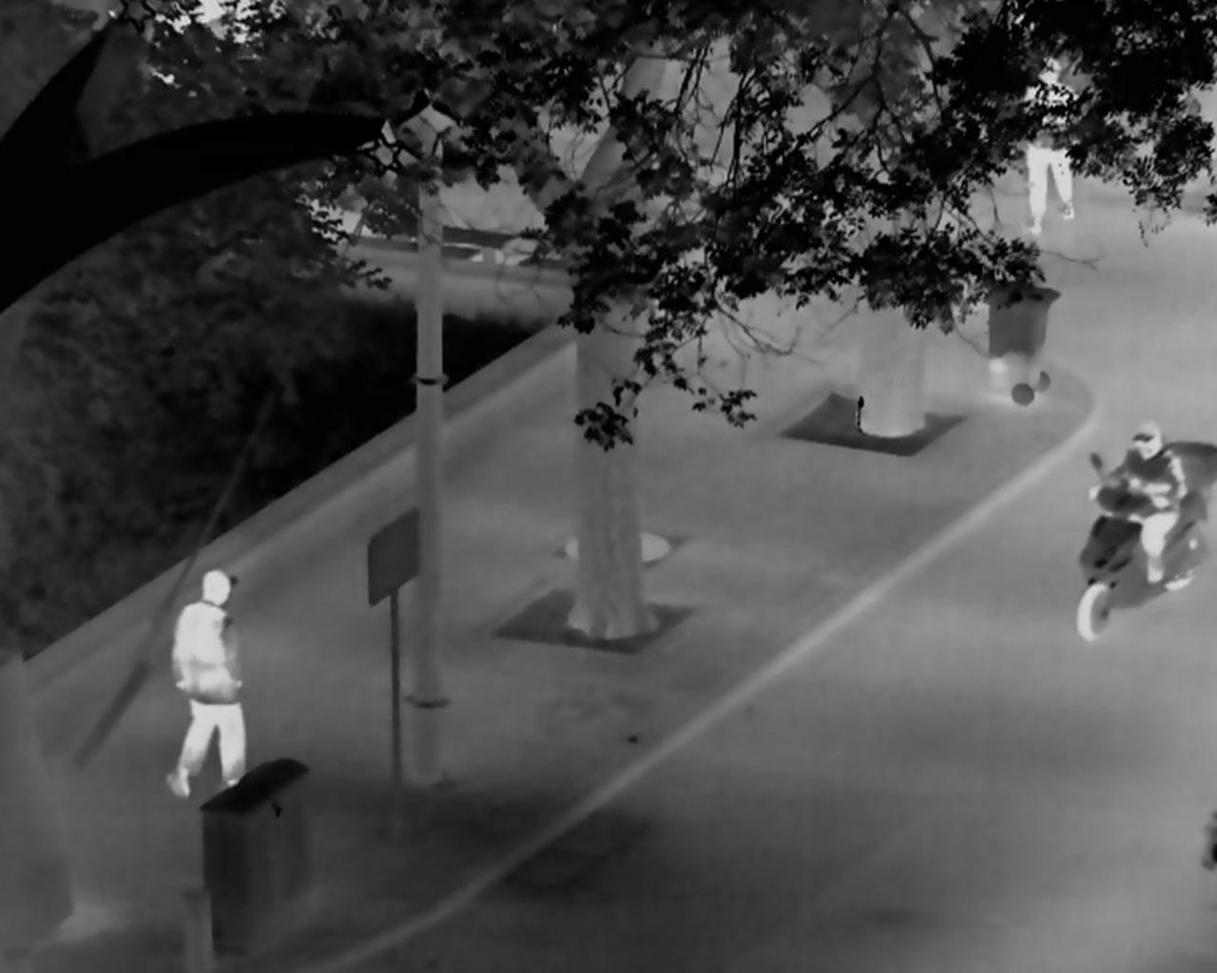person: (164, 568, 246, 798), (1089, 419, 1187, 585), (1017, 57, 1077, 236)
